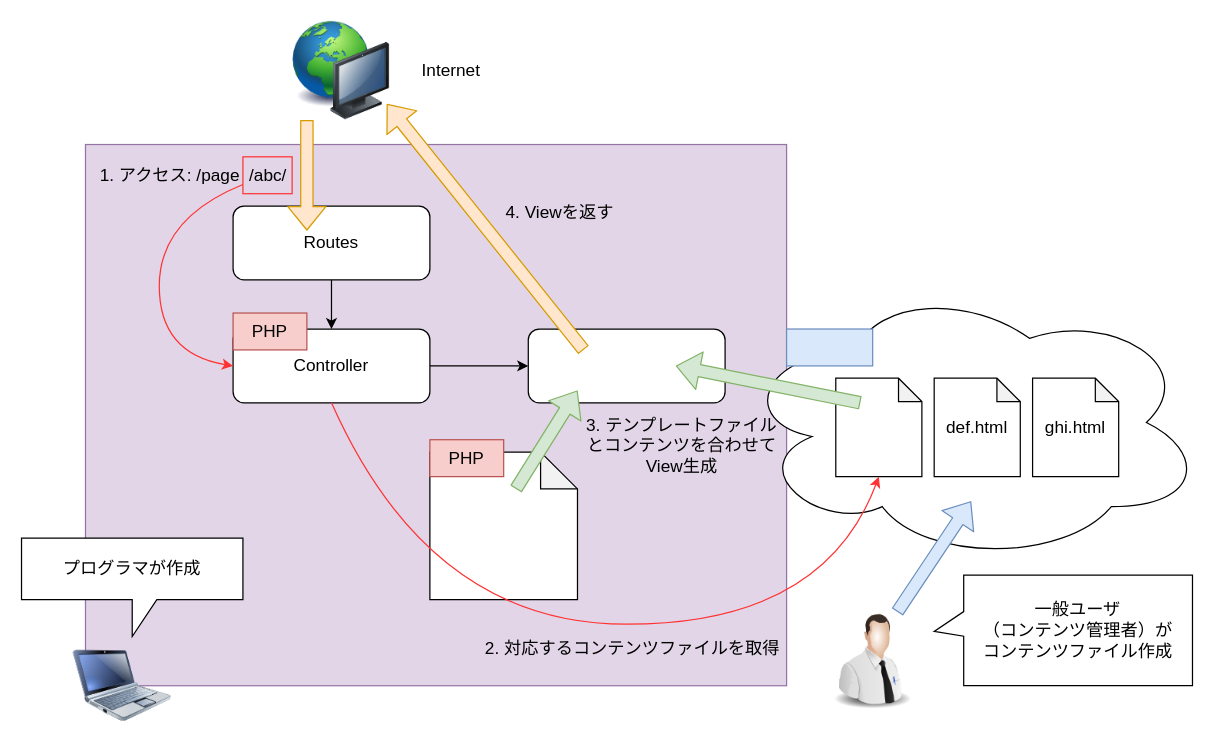
This 1226x755 diagram has some shape labels left out. The box of each missing label's shape, as (x1, y1, x2, y2) in pixels:
abc.html: (835, 377, 922, 477)
Contents: (785, 328, 873, 366)
template: (429, 451, 577, 600)
View: (527, 328, 725, 403)
